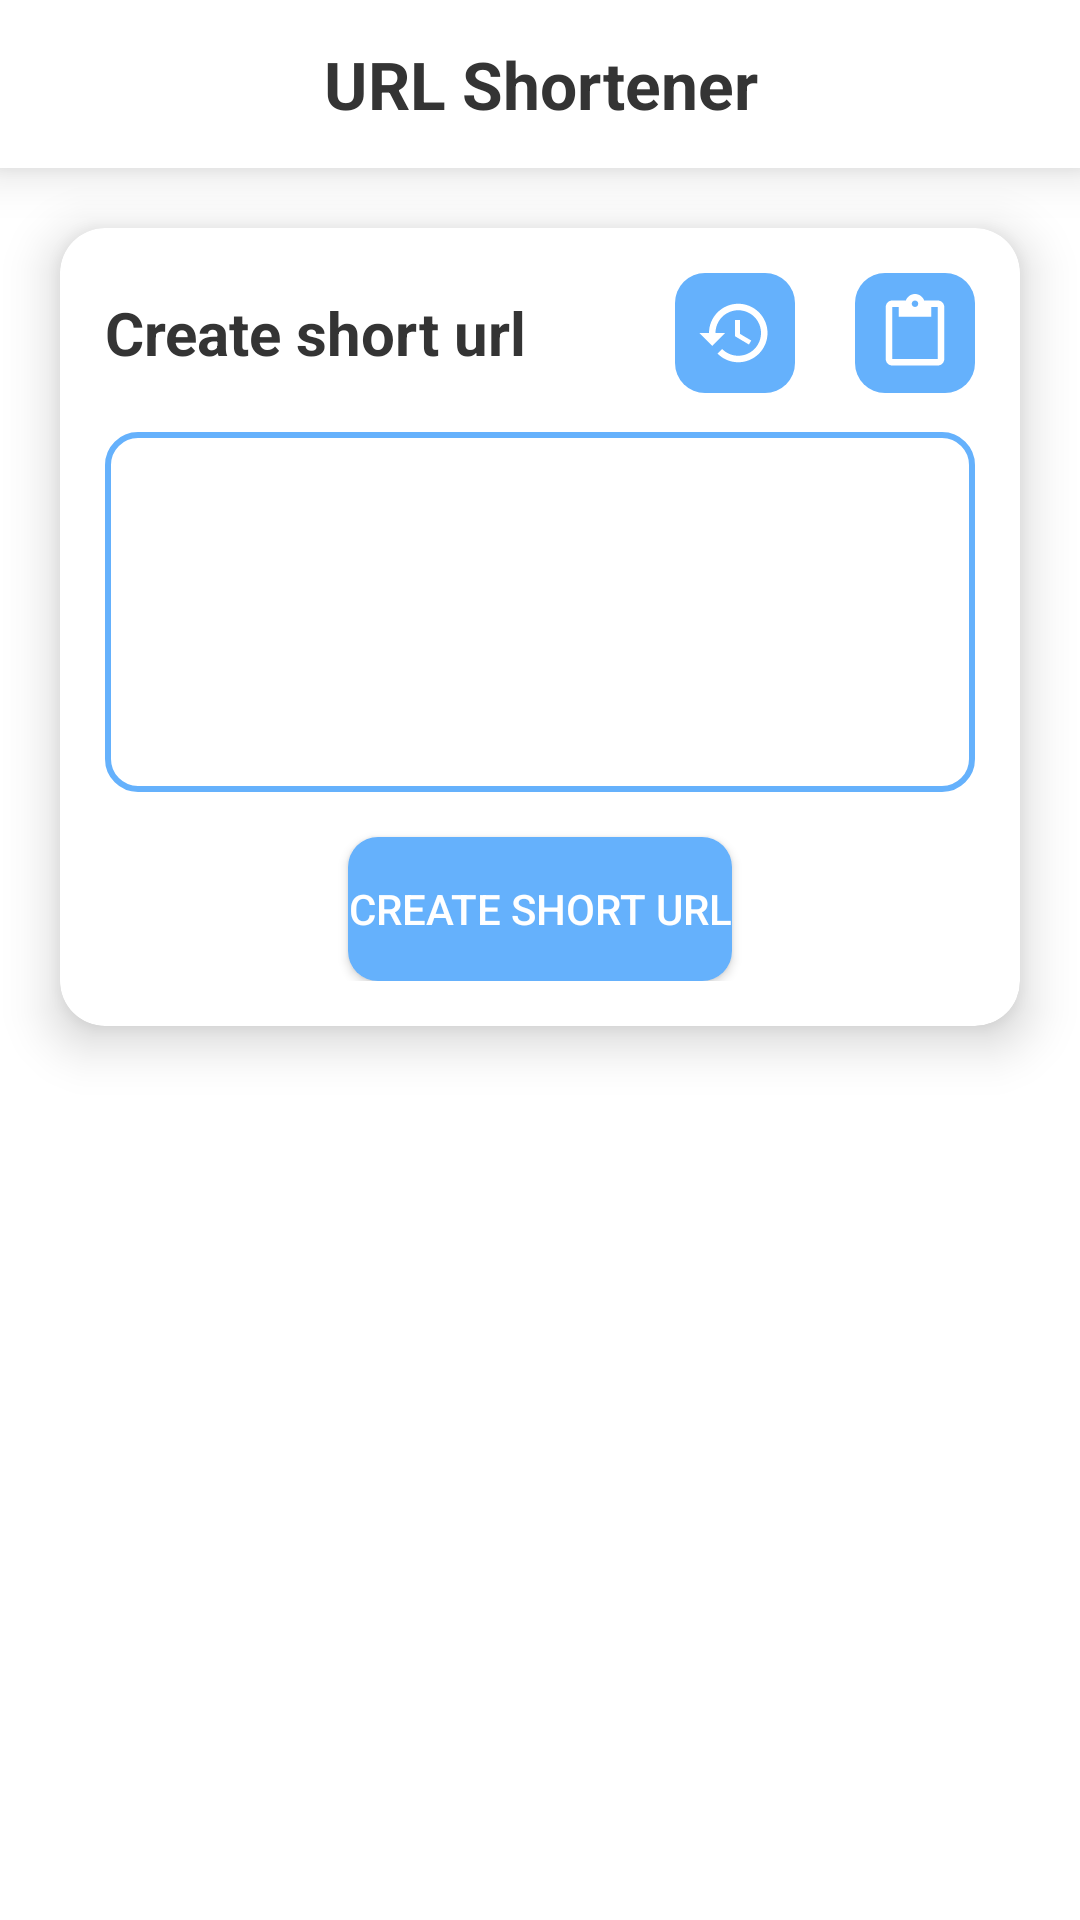

Locate icon controls on the screen. Image size 1080px×1920px, boxes as box(x1, y1, x2, y2).
history: box(675, 273, 795, 393)
paste: box(855, 273, 975, 393)
